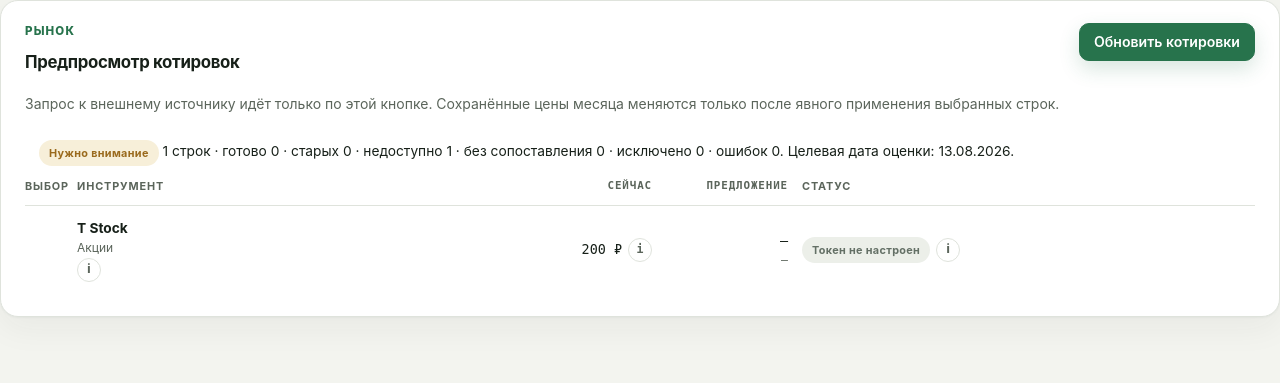
it: QuotePreviewPanel › shows a T-Invest identity and backend message without apply controls
expect the text "T Stock" is shown: met, box [77,218,128,238]
expect the text "Токен не настроен" is shown: met, box [802,237,930,263]
Click the button named "Идентичность внешнего источника для T Stock": [89, 270] box [77,258,101,282]
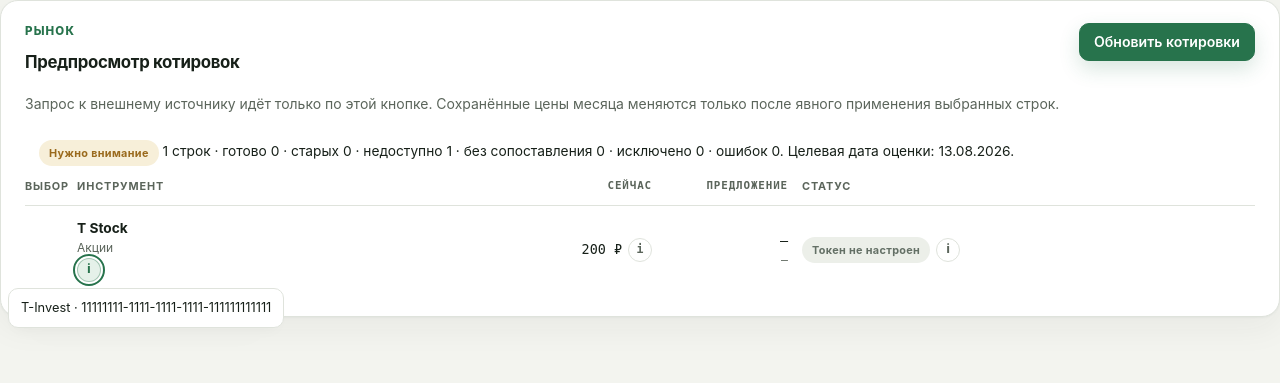
expect the tooltip reads "T-Invest · 11111111-1111-1111-1111-111111111111": met, box [21,300,271,315]
Press Escape
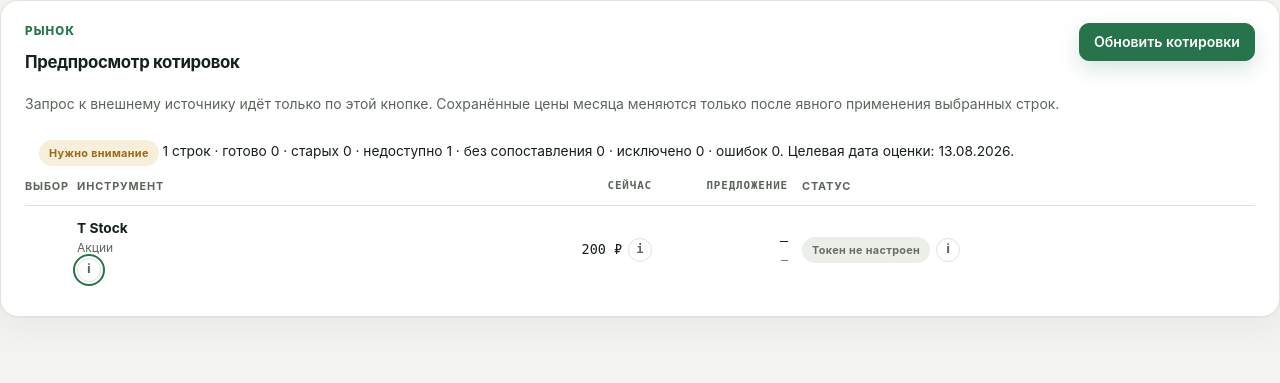
Click the button named "Подробности статуса для T Stock": [948, 250] box [936,238,960,262]
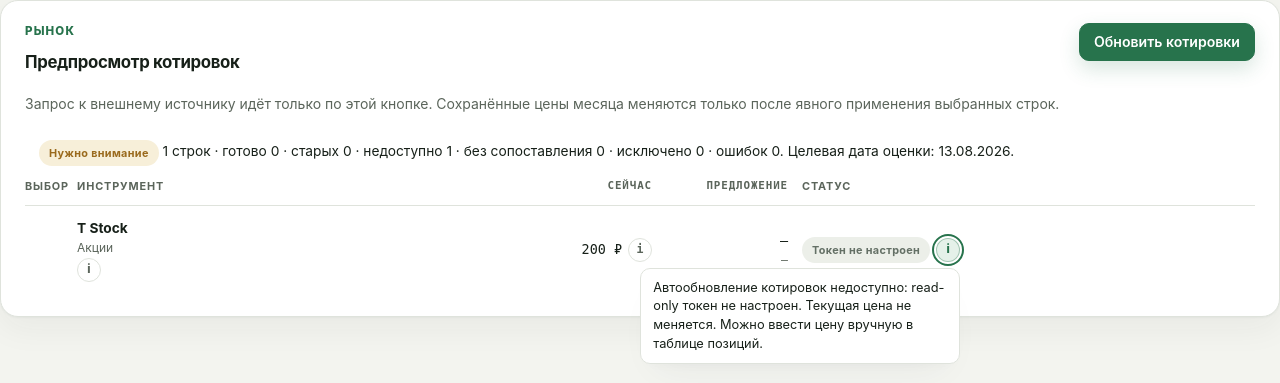
expect the tooltip shows "read-only токен не настроен": met, box [653,280,944,350]
expect the tooltip shows "Можно ввести цену вручную": met, box [653,280,944,350]
